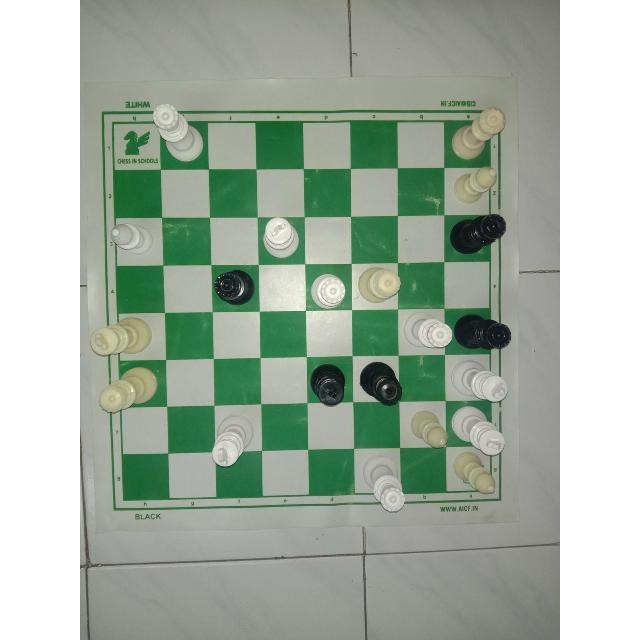black-king: (307, 358, 351, 406)
black-queen: (444, 210, 510, 258), (455, 307, 515, 353), (210, 268, 260, 314), (358, 357, 404, 406)
white-bishop: (451, 165, 506, 207), (105, 216, 160, 255), (451, 453, 499, 497), (408, 409, 448, 451)
white-king: (449, 404, 509, 458), (207, 413, 254, 475), (90, 311, 152, 355), (454, 358, 512, 402), (257, 214, 299, 258)
white-queen: (149, 100, 207, 163), (449, 101, 509, 161), (95, 363, 161, 417), (361, 451, 407, 515), (401, 311, 455, 355), (354, 264, 403, 306), (304, 269, 350, 310)
